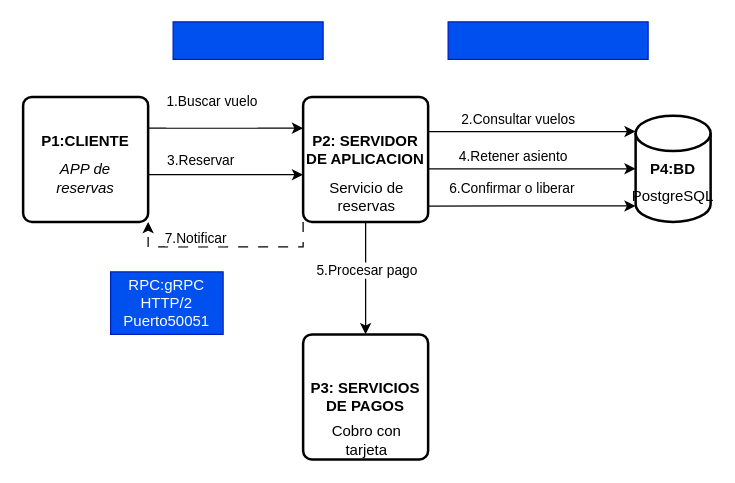
Image size: 735x483. Some labels were removed from this diagram. Each missing label, with the centre of its shape:
"Socket TCP puerto 5000" goes at (247,40).
"TCP:5432 Protocolo postgreSQL" goes at (547,40).
